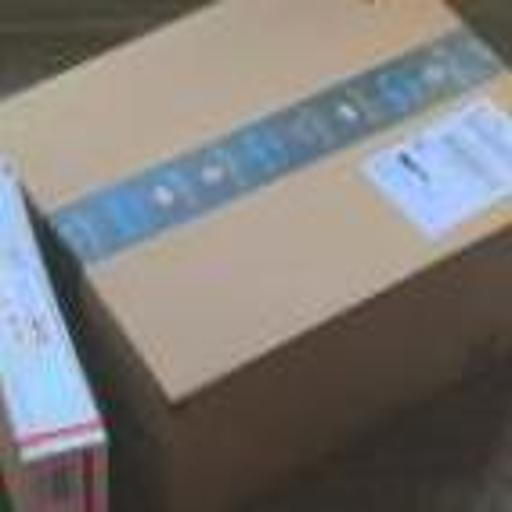Amazon: (32, 0, 512, 386)
Other: (0, 163, 121, 510)
